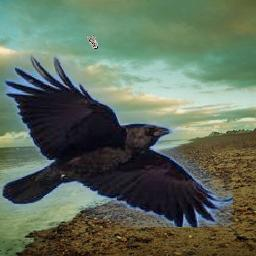Crow: (1, 55, 234, 228)
Sparrow: (86, 35, 99, 50)
